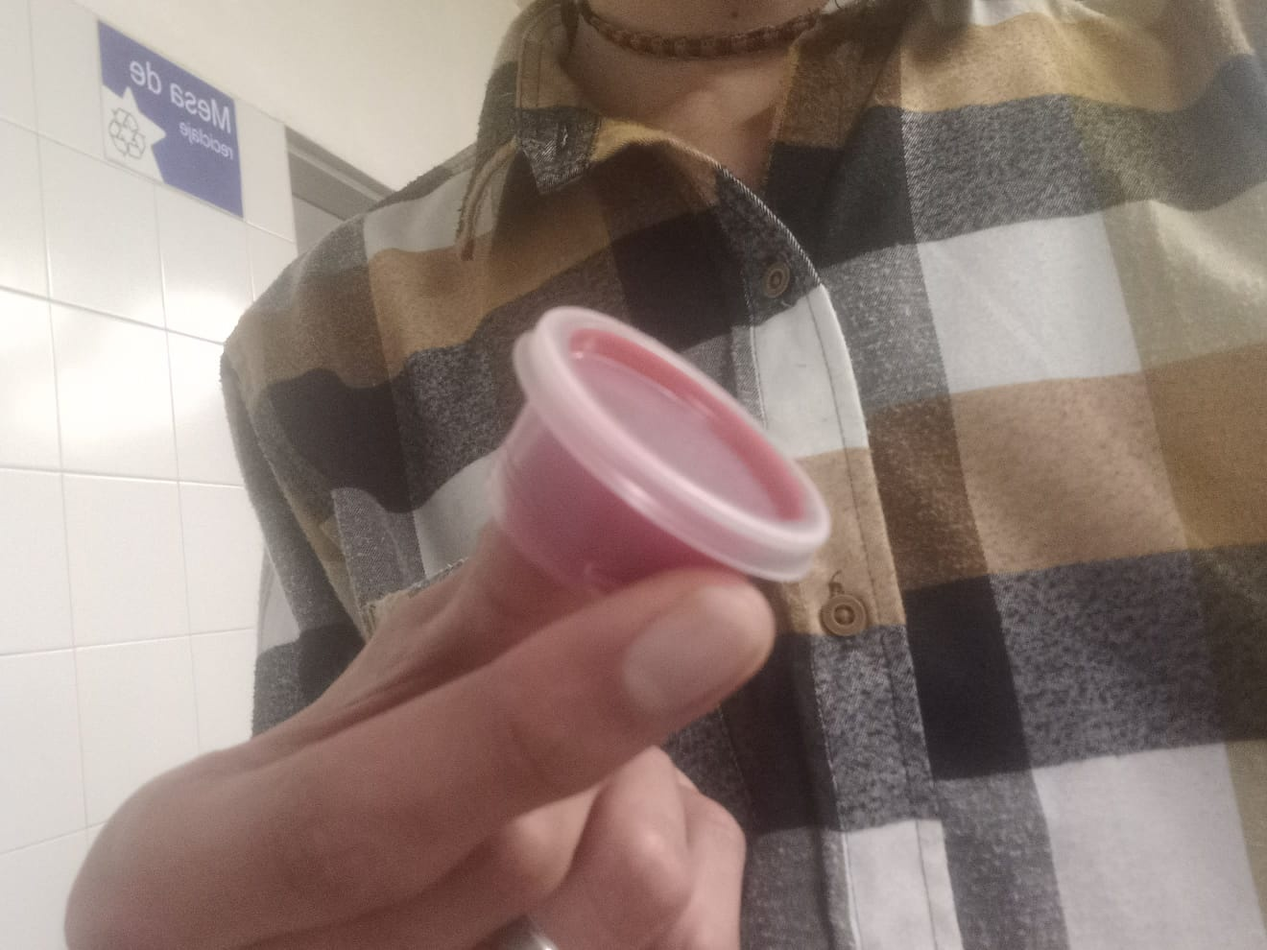Ordinario: (486, 305, 830, 587)
